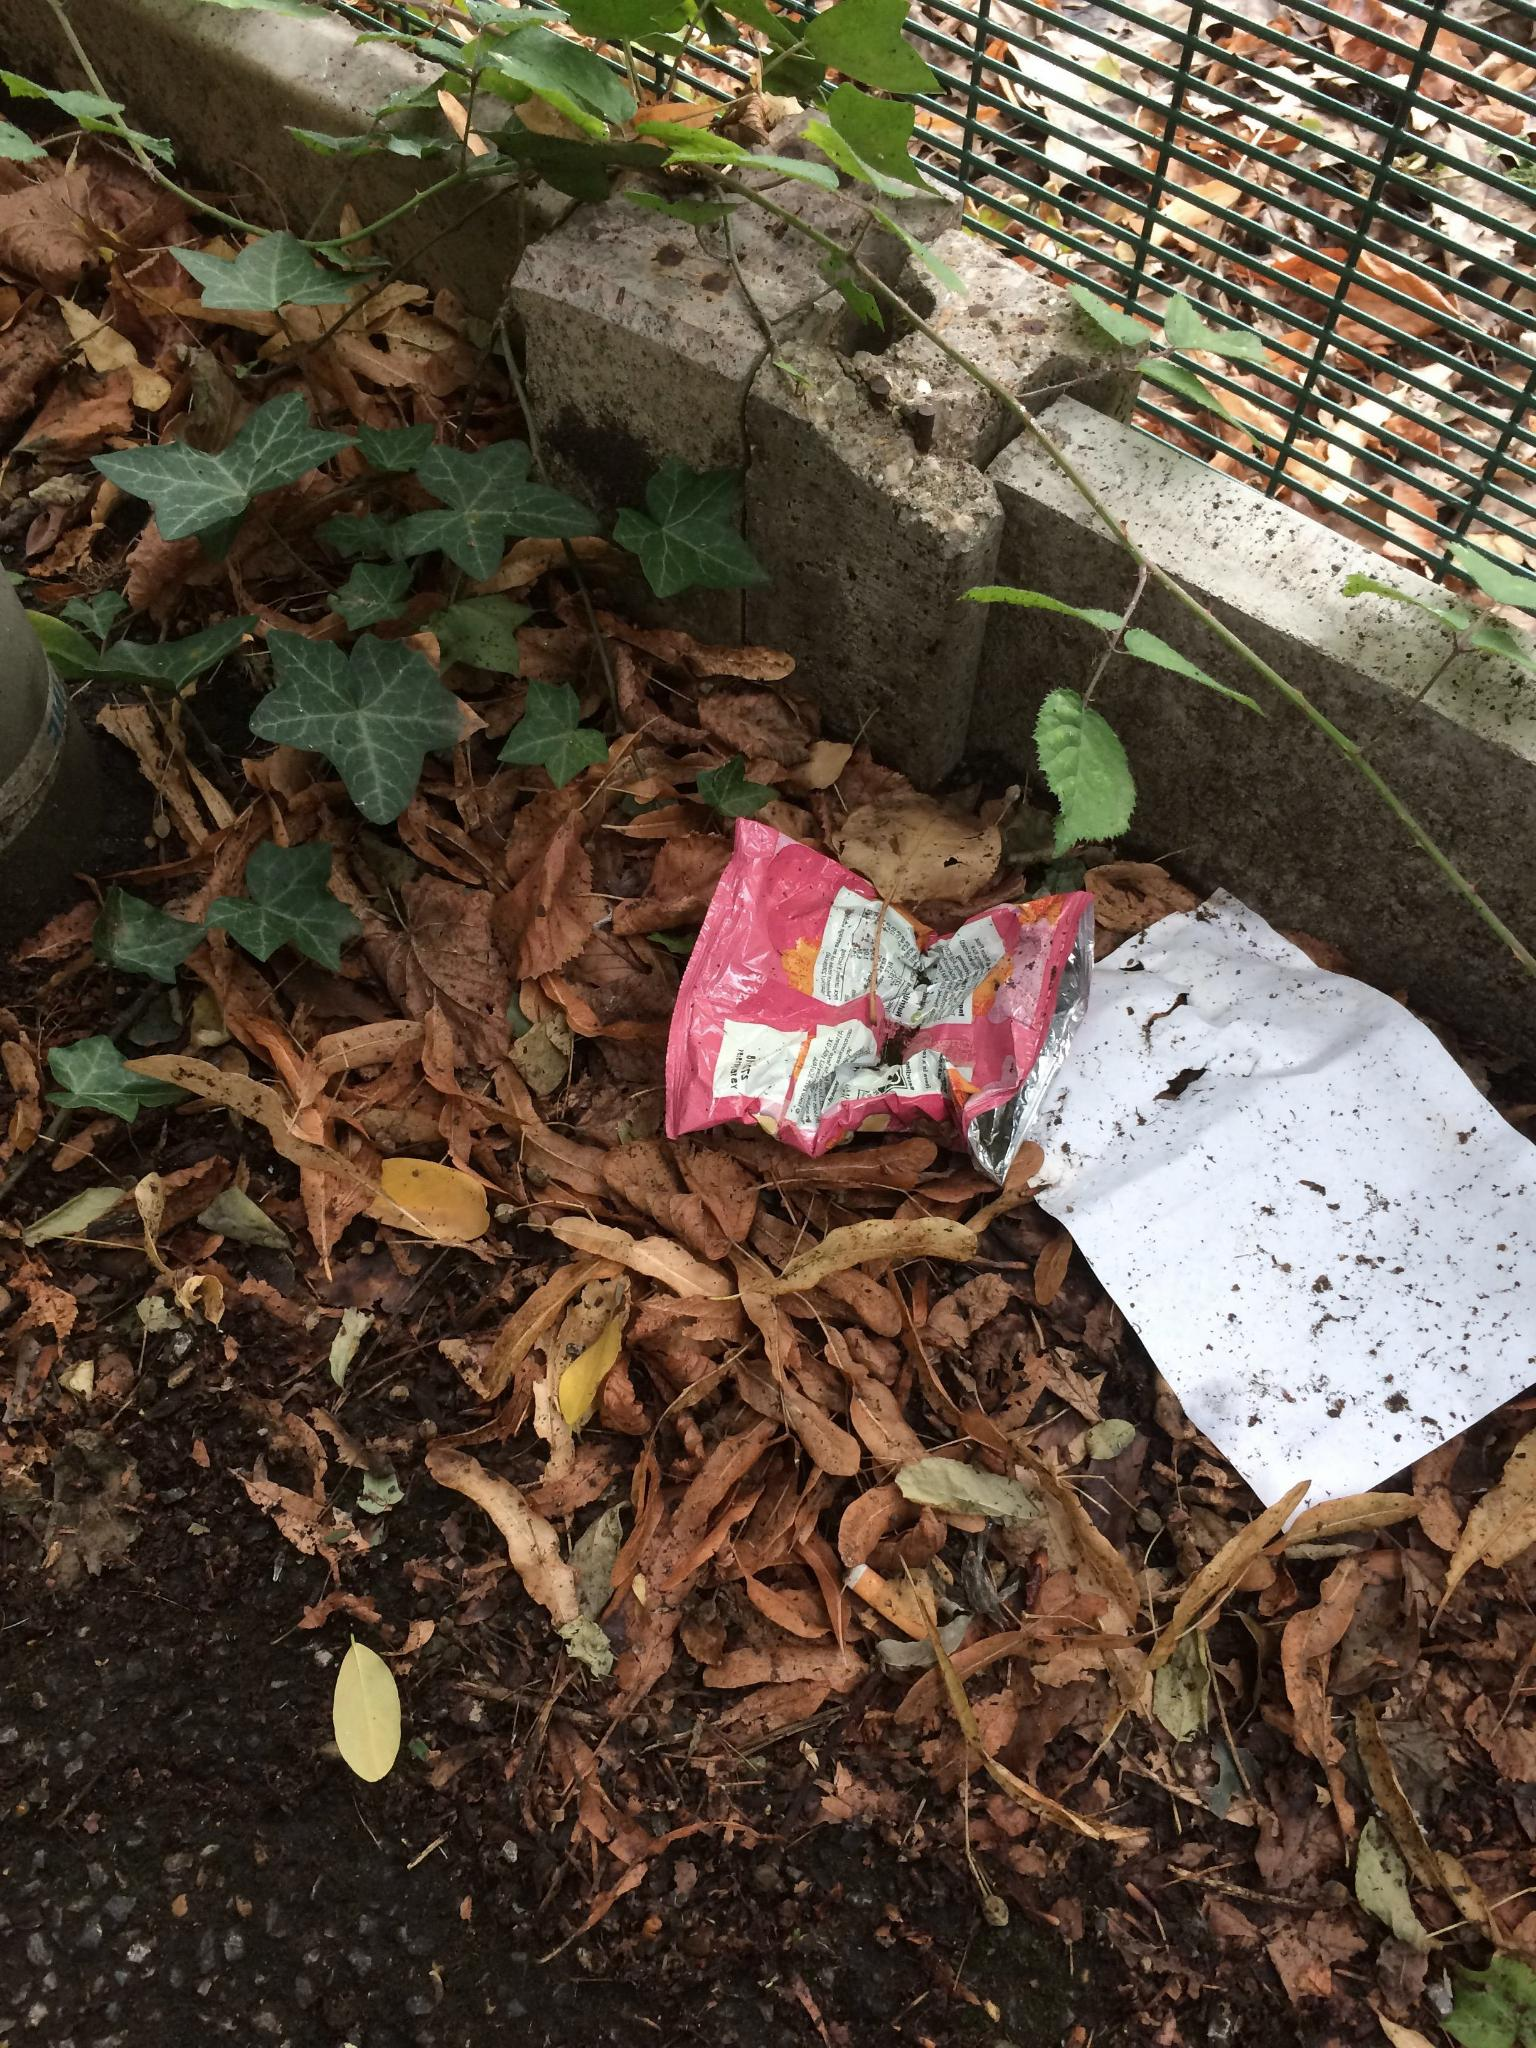Plastic: (629, 806, 1112, 1201)
Trash: (942, 872, 1536, 1559)
